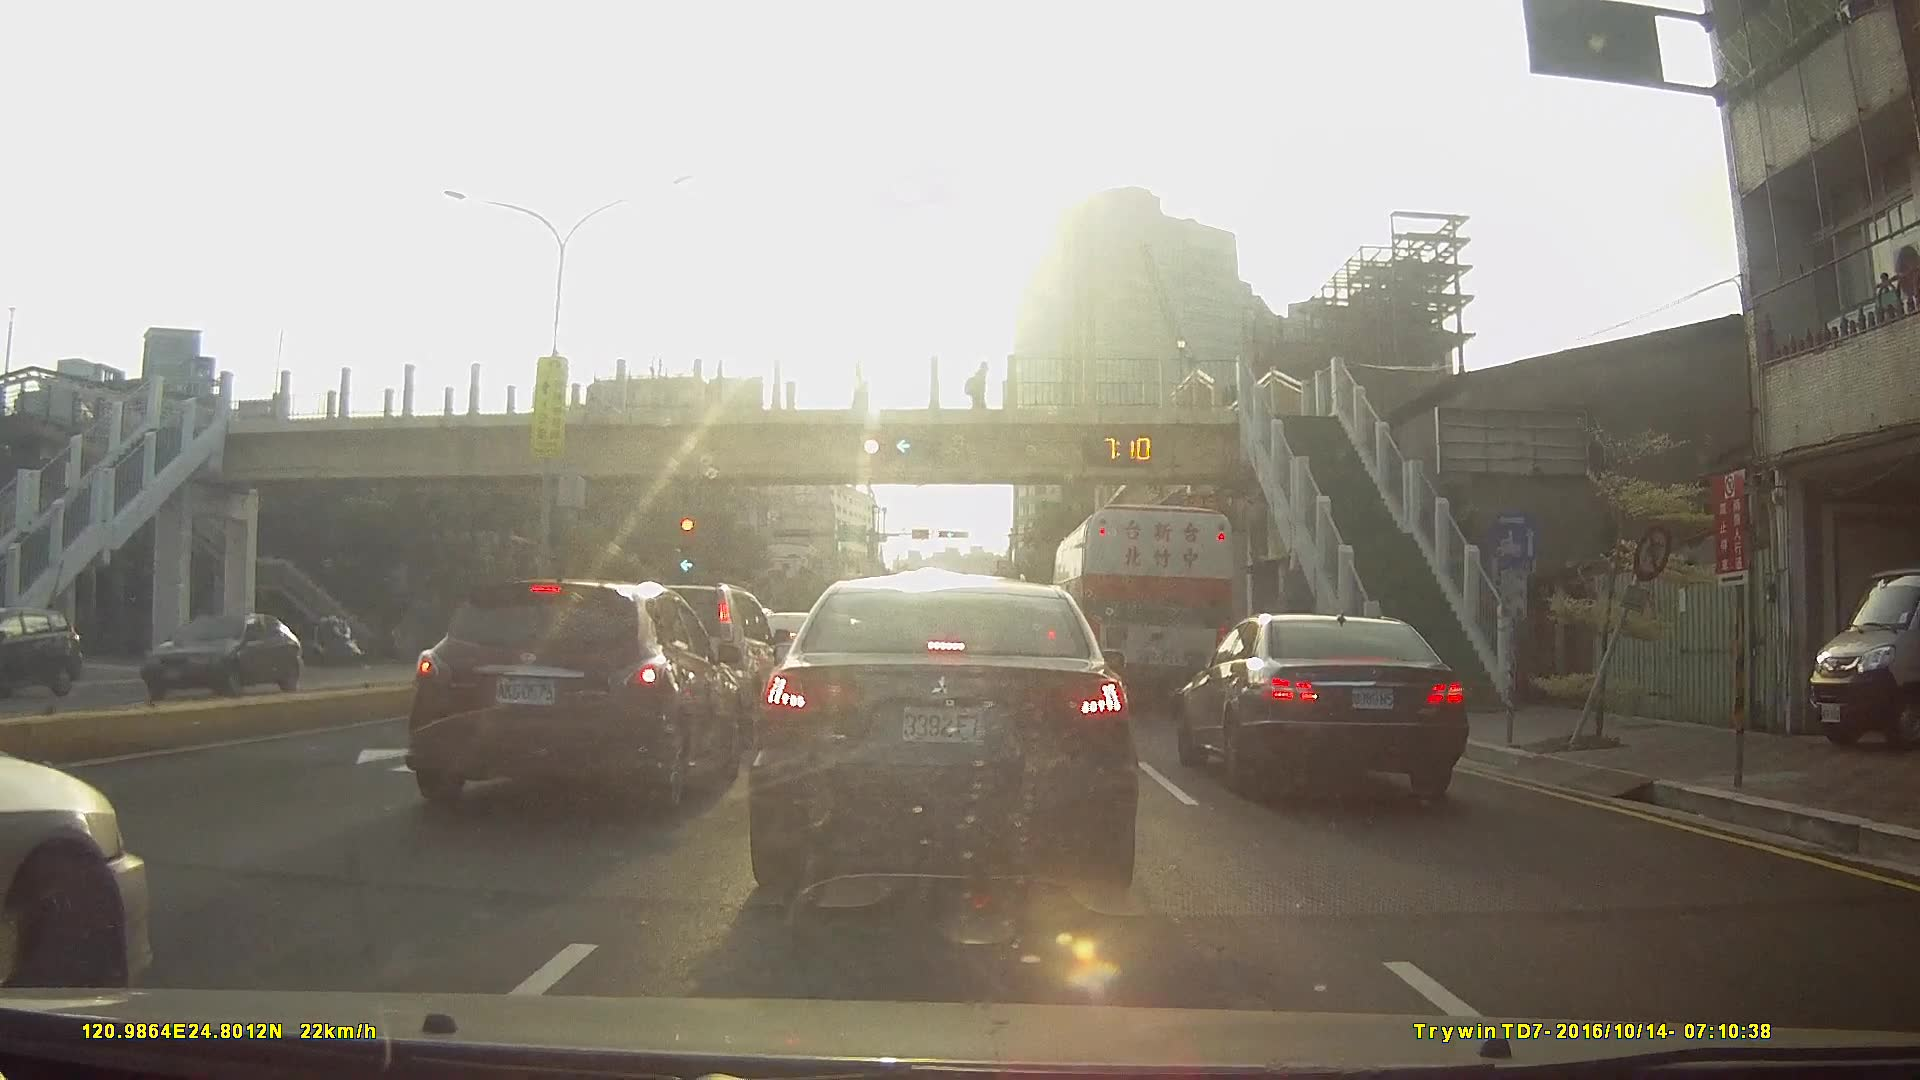pedestrian: (967, 360, 989, 409)
rider: (310, 611, 373, 665)
vehicle: (740, 570, 1143, 899), (403, 578, 744, 815), (1173, 609, 1470, 801), (1052, 502, 1237, 704), (121, 610, 291, 699), (0, 602, 82, 695)
